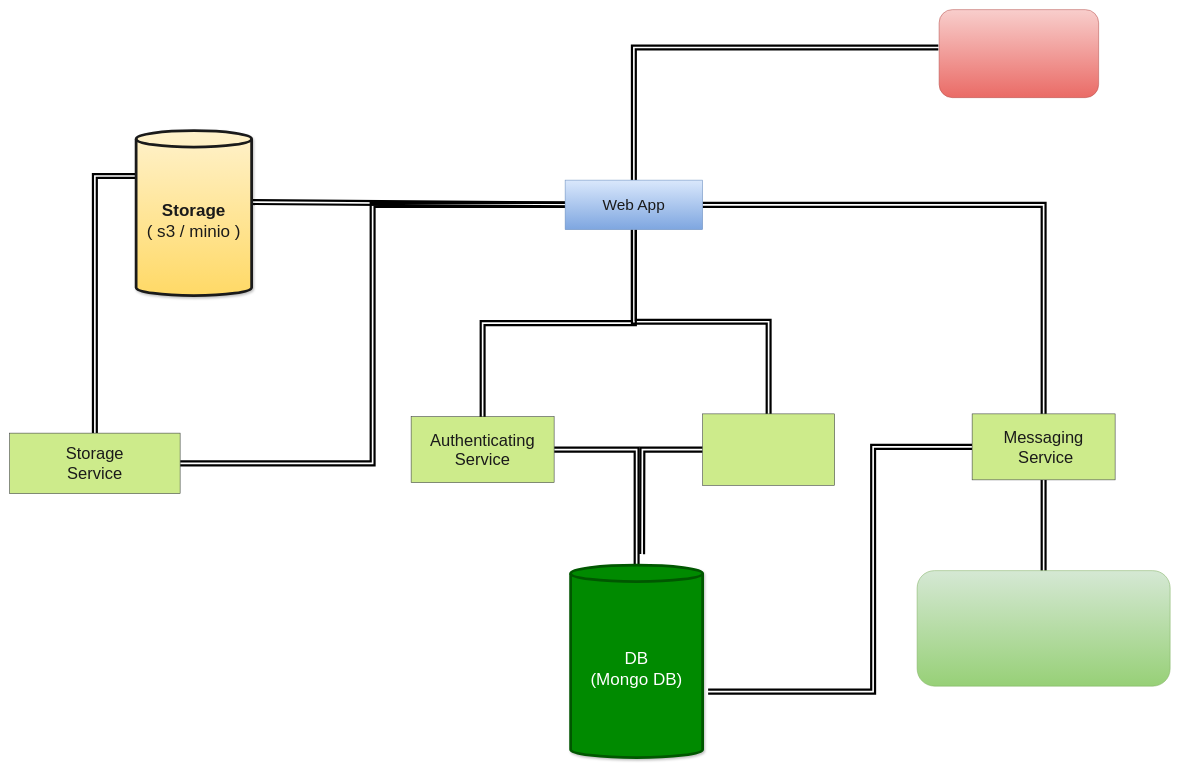
Some shapes in this 1180 by 772 pixel diagram are drawn without their labels. The centre of each missing label's shape, as x and y in pixels:
Firebase Auth.: (x=1019, y=53)
Management Service: (x=768, y=449)
Message Broker : Kafka: (x=1043, y=628)
